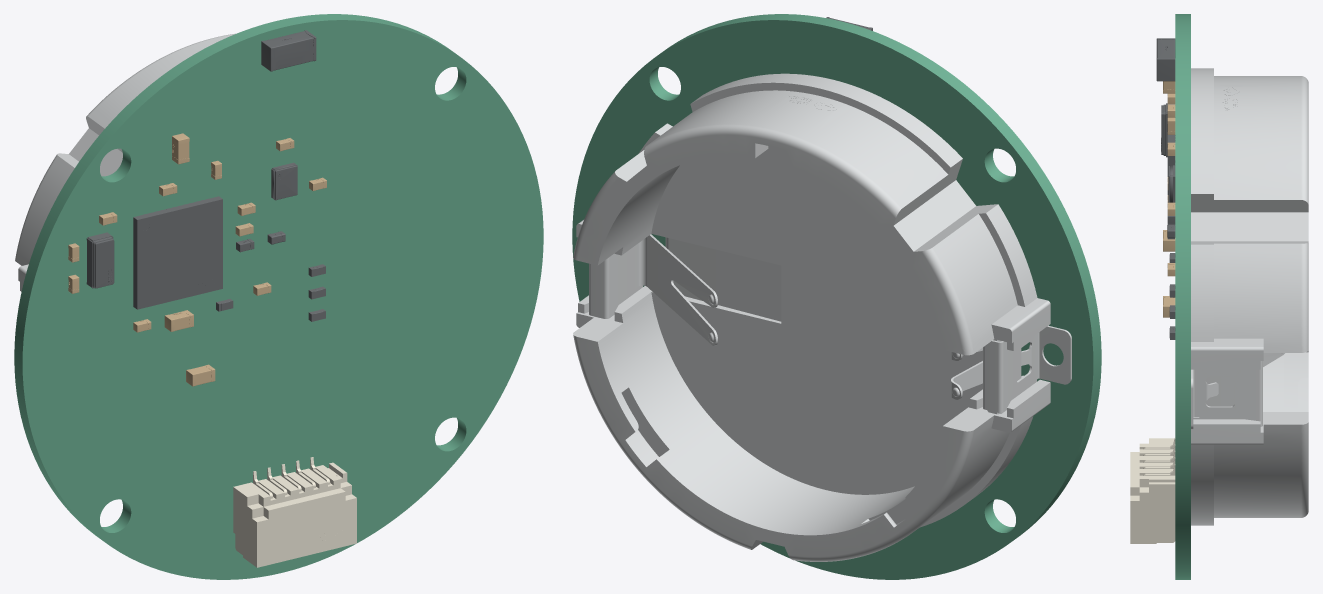
The model's file is PCBA_Body.glb.
3 renders of one model, left to right at view 1: azimuth 30°, elevation 25°; view 2: azimuth 150°, elevation 25°; view 3: azimuth 270°, elevation 25°, orthographic. The views are drawn at different scales.
Visible parts, largest first — view 1: PCBA_Body_0, PCBA_Body_11, PCBA_Body_1, PCBA_Body_2, PCBA_Body_26, PCBA_Body_20, PCBA_Body_17; view 2: PCBA_Body_2, PCBA_Body_0; view 3: PCBA_Body_2, PCBA_Body_0, PCBA_Body_11, PCBA_Body_26, PCBA_Body_20, PCBA_Body_17.
Part boxes in pixels (left/top/right/bottom): PCBA_Body_0: left=14, top=14, right=543, bottom=579; PCBA_Body_11: left=233, top=457, right=356, bottom=567; PCBA_Body_1: left=133, top=196, right=222, bottom=309; PCBA_Body_2: left=15, top=33, right=235, bottom=291; PCBA_Body_26: left=261, top=30, right=316, bottom=71; PCBA_Body_20: left=86, top=232, right=114, bottom=288; PCBA_Body_17: left=271, top=162, right=297, bottom=200; PCBA_Body_2: left=573, top=73, right=1071, bottom=561; PCBA_Body_0: left=572, top=14, right=1101, bottom=579; PCBA_Body_2: left=1191, top=68, right=1308, bottom=525; PCBA_Body_0: left=1175, top=14, right=1190, bottom=579; PCBA_Body_11: left=1130, top=438, right=1175, bottom=543; PCBA_Body_26: left=1156, top=38, right=1175, bottom=81; PCBA_Body_20: left=1161, top=103, right=1174, bottom=157; PCBA_Body_17: left=1168, top=165, right=1175, bottom=202.
Bounding box in the file's own units: 36.5 × 36.5 × 11.51.
